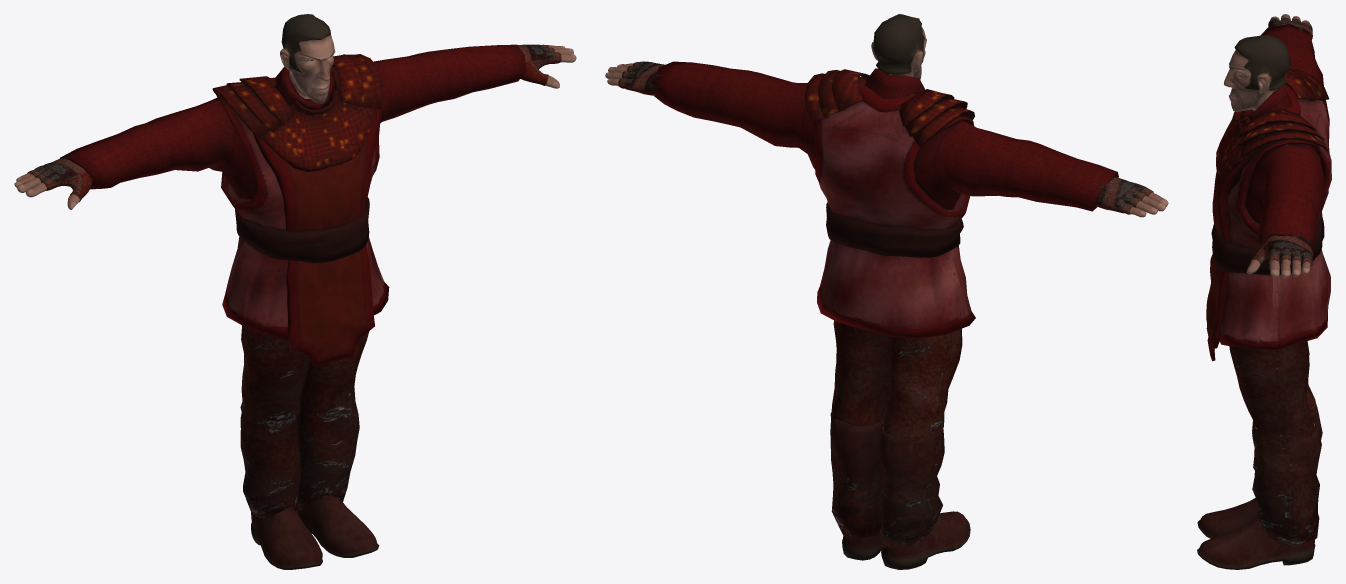
The model's file is MBC3.obj.
3 views of the same model, side by side, from view 1: azimuth 30°, elevation 25°; view 2: azimuth 150°, elevation 25°; view 3: azimuth 270°, elevation 25° (orthographic). The views are drawn at different scales.
Visible parts, largest first — view 1: Tops, Bottoms, Shoes, Body, Gloves; view 2: Tops, Bottoms, Shoes, Body, Gloves; view 3: Tops, Bottoms, Shoes, Body, Gloves.
Boxes of the visible parts, x1,y1,x2,y2 form: Tops: (60,44,526,366); Bottoms: (240,325,369,518); Shoes: (240,402,379,569); Body: (14,14,576,209); Gloves: (27,44,561,202); Tops: (652,61,1118,338); Bottoms: (830,320,962,548); Shoes: (830,412,970,569); Body: (605,14,1168,217); Gloves: (618,61,1153,214); Tops: (1206,24,1331,361); Bottoms: (1229,341,1319,547); Shoes: (1197,405,1322,569); Body: (1224,14,1310,277); Gloves: (1250,17,1312,266).
Bounding box in the file's own units: 192 × 174 × 41.61.
5 materials, 5 textured.
